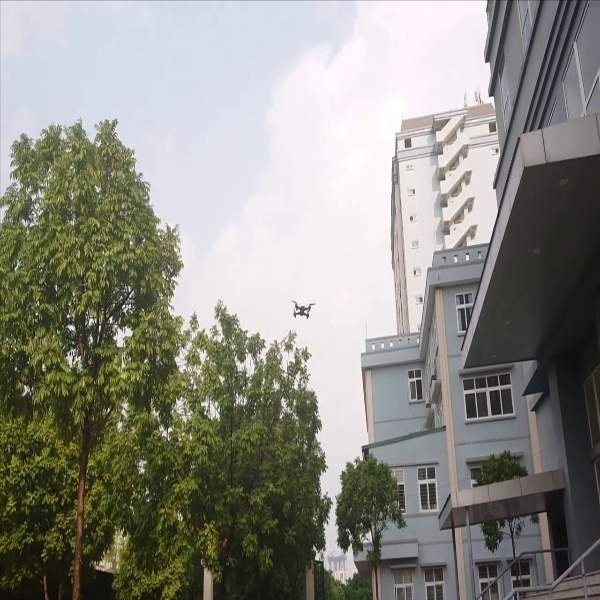drone: (287, 291, 318, 322)
